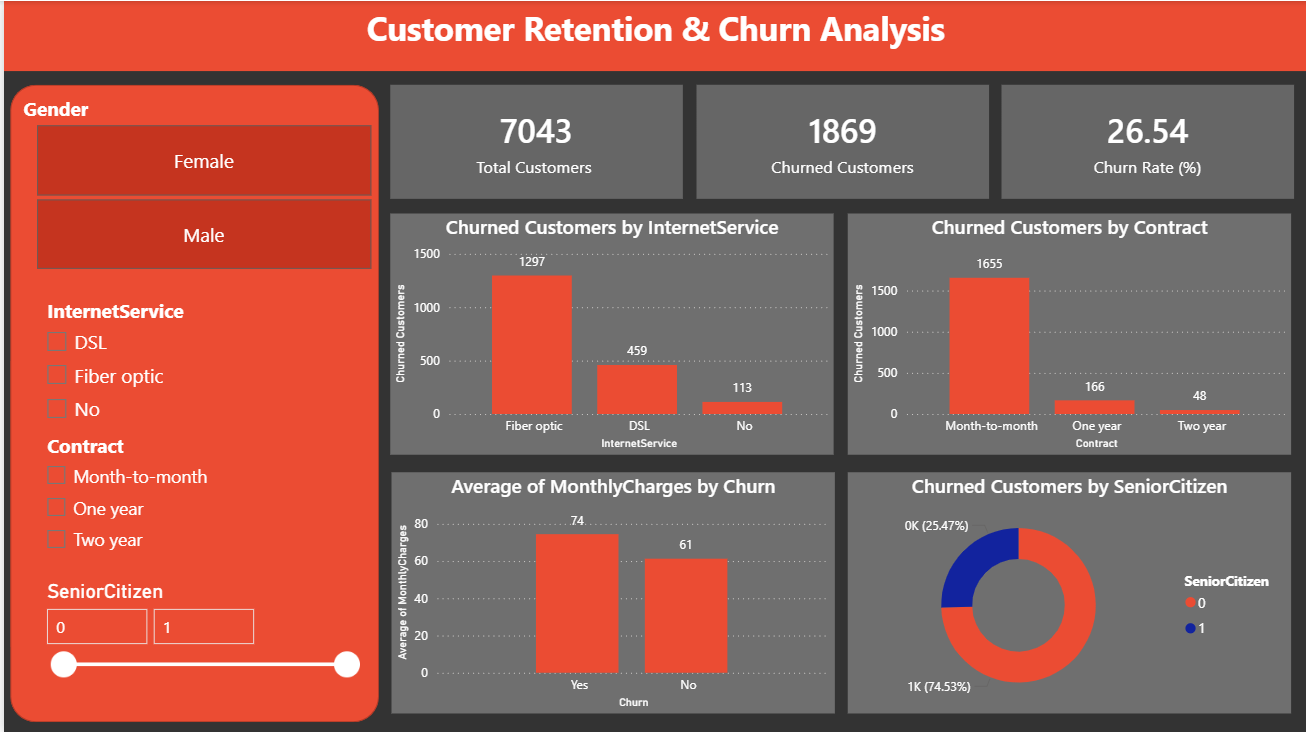

Layout of this report page (visuals, bound fields, positions):
{"tool":"powerbi","page":{"name":"Page 1","canvas":[1280,720],"ordinal":0},"visuals":[{"type":"textbox","box":[0,0,1279.8,68.7],"z":0},{"type":"card","fields":{"Values":["ChurnData.Total Customers 2"]},"box":[379.1,82.2,287.1,111.7],"z":1000},{"type":"clusteredColumnChart","fields":{"Category":["ChurnData.Contract"],"Y":["ChurnData.Churned Customers"]},"box":[828.2,208.6,435.6,236.8],"z":2000},{"type":"shape","box":[6.1,82.2,362,625.8],"z":3000},{"type":"slicer","fields":{"Values":["ChurnData.gender"]},"box":[6.1,93.3,374.2,176.7],"z":4000},{"type":"slicer","fields":{"Values":["ChurnData.Contract"]},"box":[29.4,418.4,283.4,128.8],"z":5000},{"type":"slicer","fields":{"Values":["ChurnData.InternetService"]},"box":[29.4,285.9,207.4,147.2],"z":6000},{"type":"slicer","fields":{"Values":["ChurnData.SeniorCitizen"]},"box":[29.4,563.2,327.6,157.1],"z":7000},{"type":"clusteredColumnChart","title":"Churned Customers by InternetService","fields":{"Category":["ChurnData.InternetService"],"Y":["ChurnData.Churned Customers"]},"box":[379.1,208.6,435.6,236.8],"z":8000},{"type":"donutChart","fields":{"Category":["ChurnData.SeniorCitizen"],"Y":["ChurnData.Churned Customers"]},"box":[828.2,462.6,435.6,236.8],"z":9000},{"type":"clusteredColumnChart","title":"Average of MonthlyCharges by Churn","fields":{"Category":["ChurnData.Churn"],"Y":["Avg(ChurnData.MonthlyCharges)"]},"box":[380.3,462,435.6,236.8],"z":10000},{"type":"card","fields":{"Values":["ChurnData.Churned Customers"]},"box":[679.8,82.2,287.1,111.7],"z":11000},{"type":"card","fields":{"Values":["ChurnData.Churn Rate (%)"]},"box":[979.1,82.2,287.1,111.7],"z":12000}]}

Visuals, with their boxes in screenshot pixels (x1, y1, x2, y2), scaled from the page's 1280x720 canvas onto the 1306x732 screenshot:
textbox: 0,0,1305,70
card - ChurnData.Total Customers 2: 387,84,680,197
clusteredColumnChart - ChurnData.Contract x ChurnData.Churned Customers: 845,212,1289,453
shape: 6,84,376,720
slicer - ChurnData.gender: 6,95,388,274
slicer - ChurnData.Contract: 30,425,319,556
slicer - ChurnData.InternetService: 30,291,242,440
slicer - ChurnData.SeniorCitizen: 30,573,364,731
"Churned Customers by InternetService" clusteredColumnChart: 387,212,831,453
donutChart - ChurnData.SeniorCitizen x ChurnData.Churned Customers: 845,470,1289,711
"Average of MonthlyCharges by Churn" clusteredColumnChart: 388,470,832,710
card - ChurnData.Churned Customers: 694,84,987,197
card - ChurnData.Churn Rate (%): 999,84,1292,197
